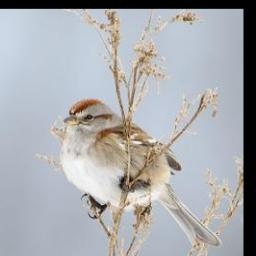Sparrow: (60, 98, 222, 247)
